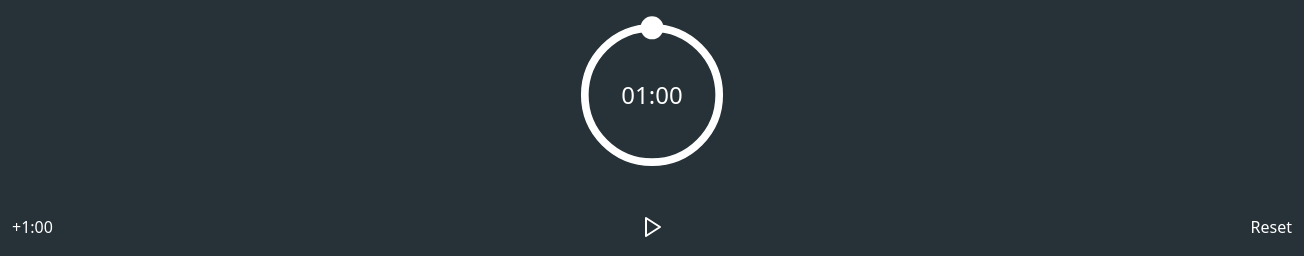
Test case: Timer Component › should reset the input fields when the timer is reset
Replace the text in the field named "Minutes" with "2" at (629, 95), box [609,79,649,111]
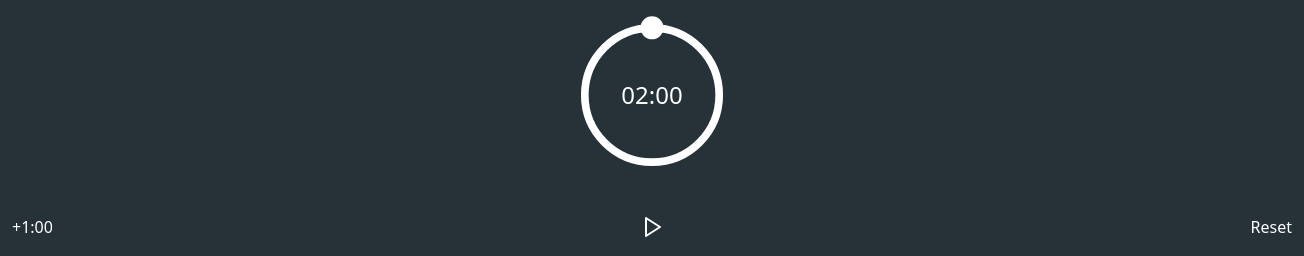
Replace the text in the field named "Seconds" with "30" at (675, 95), box [655,79,695,111]
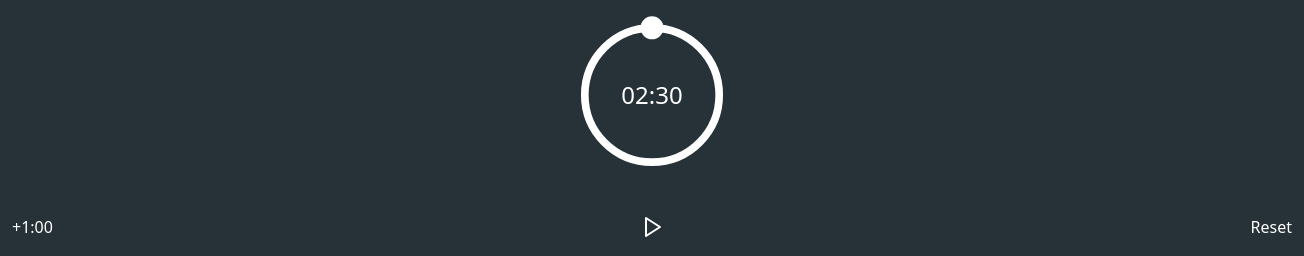
Click the button with aria-label "Reset Timer" at (1271, 227), box [1250,215,1292,239]
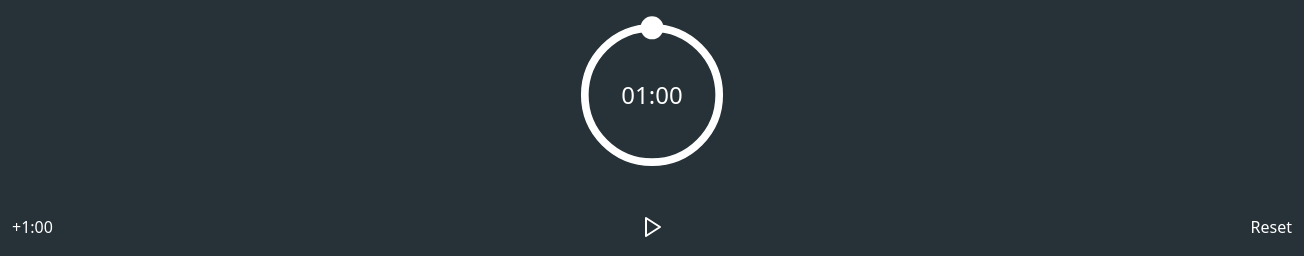
Now the field named "Minutes" holds "01", box [609,79,649,111]
Now the field named "Seconds" holds "00", box [655,79,695,111]
